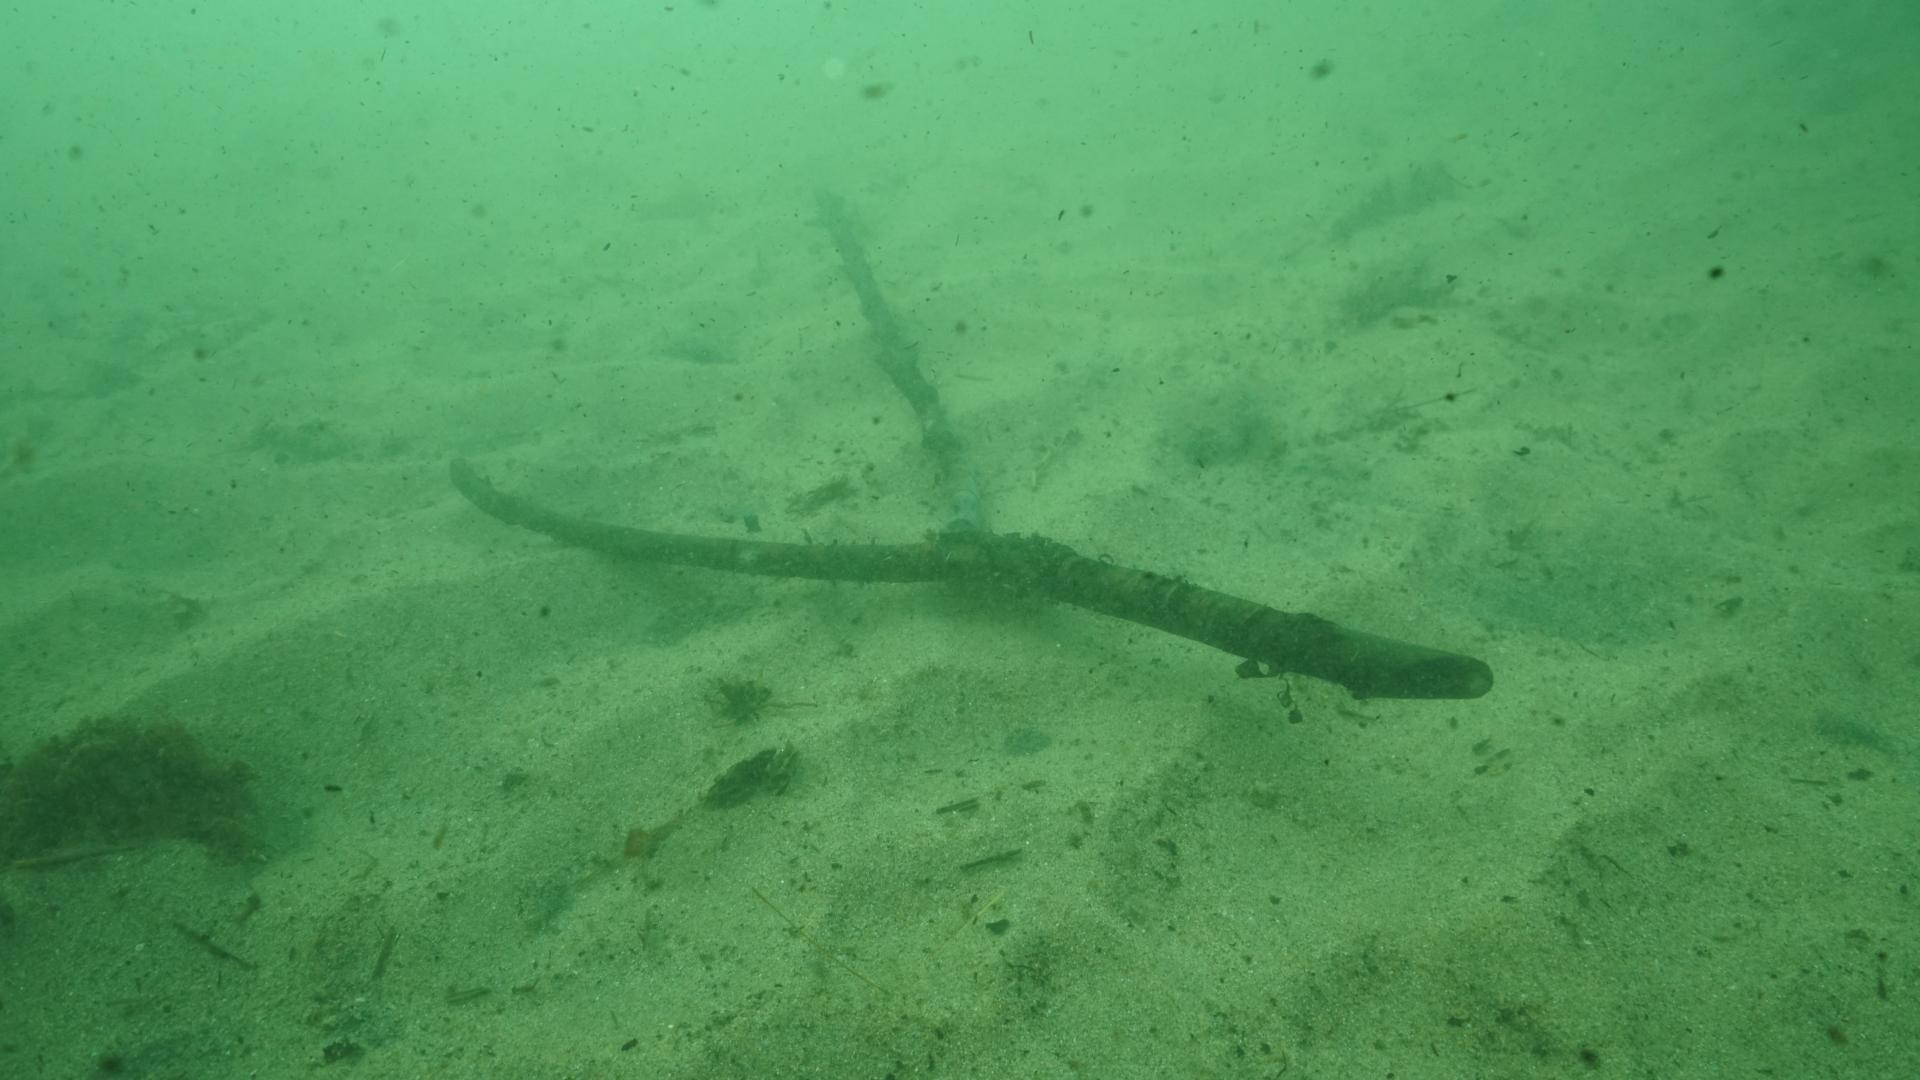wood: (447, 187, 1495, 702)
